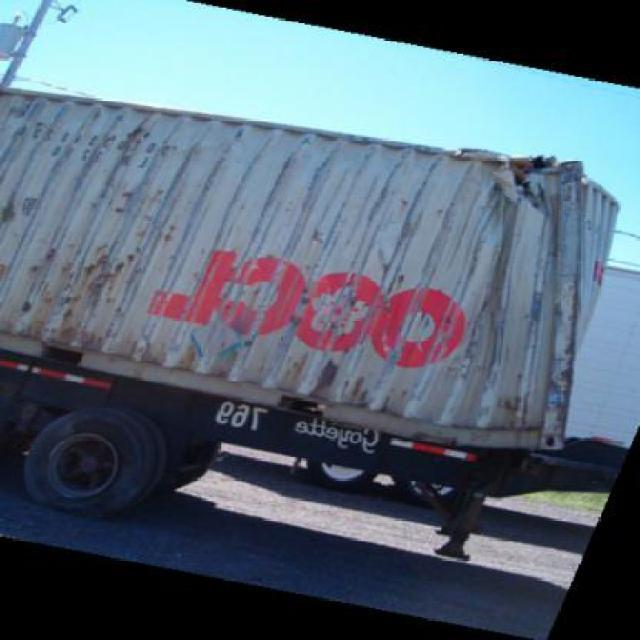hole: (464, 127, 593, 299)
rust: (12, 107, 158, 353), (290, 310, 424, 404)
